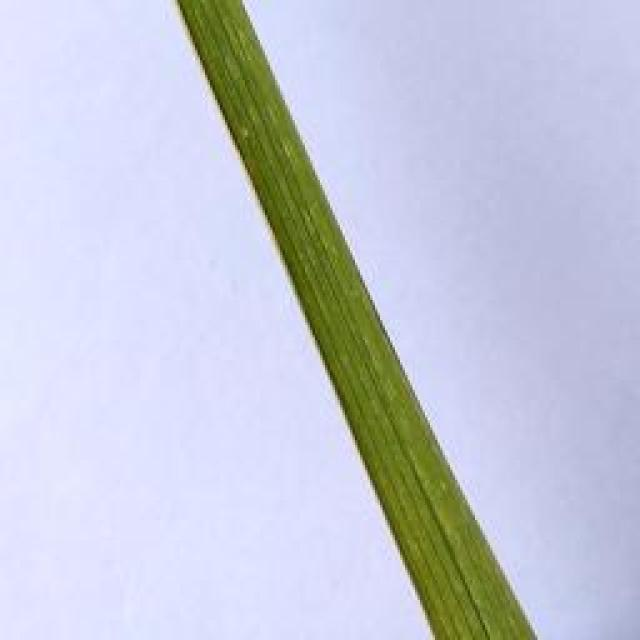Healthy-Plant: (172, 0, 536, 640)
